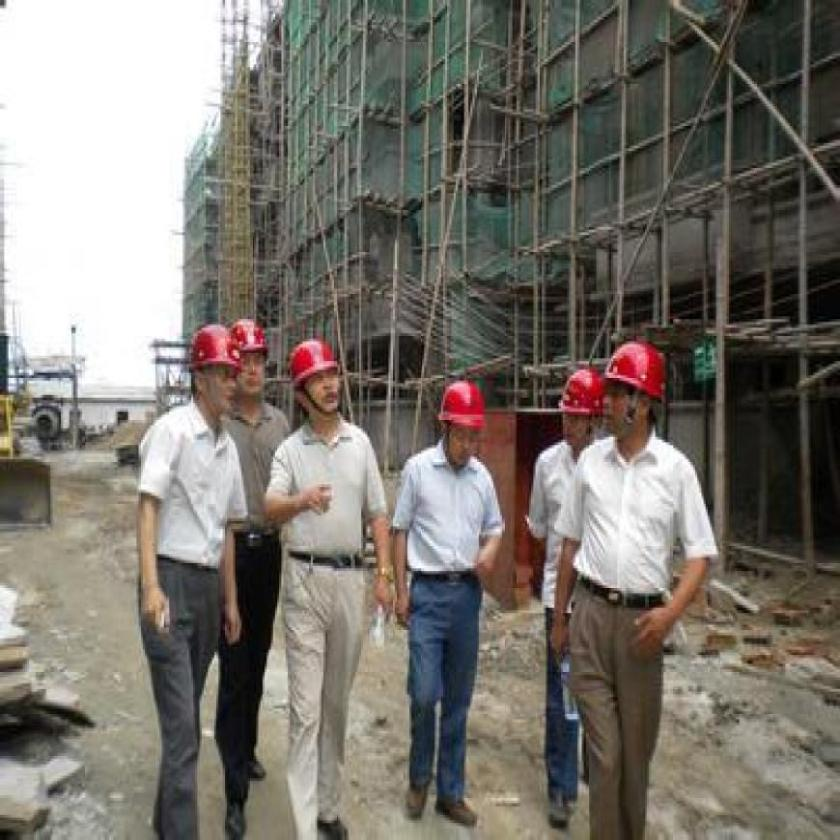Con_casco: (605, 321, 669, 454), (284, 330, 359, 443), (436, 375, 484, 477), (189, 318, 236, 420)
